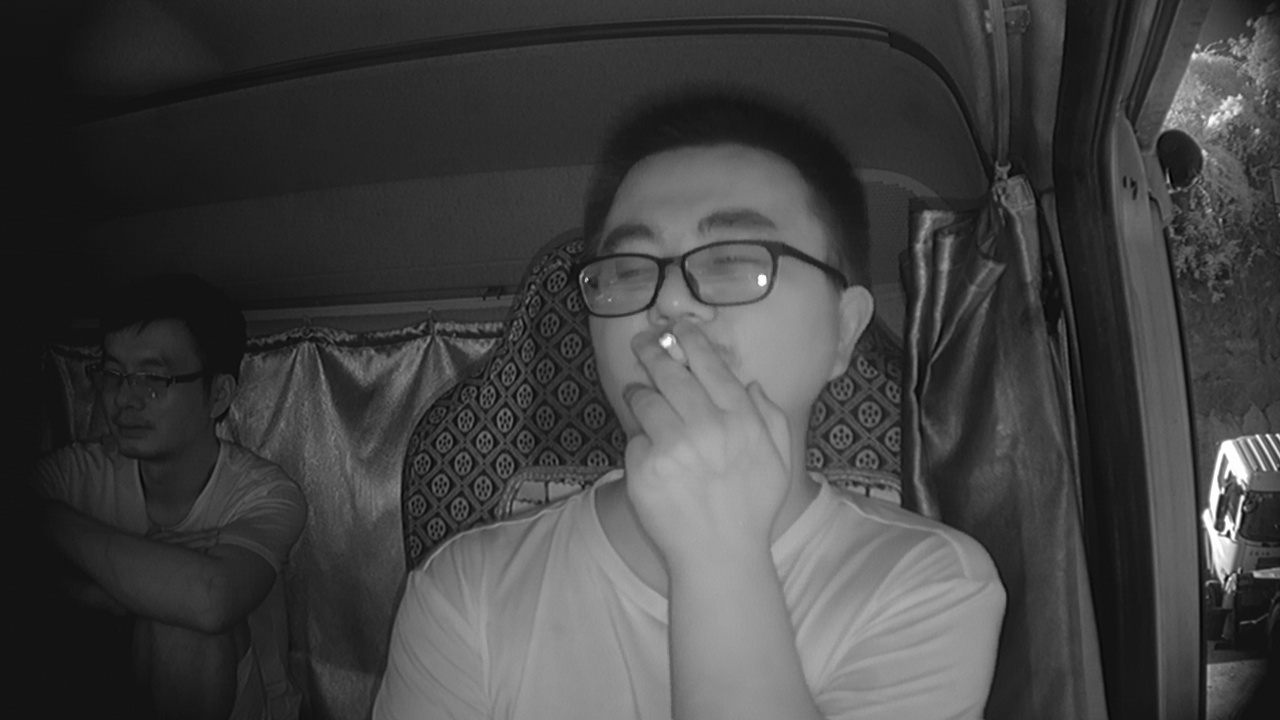hand: (619, 322, 801, 548)
